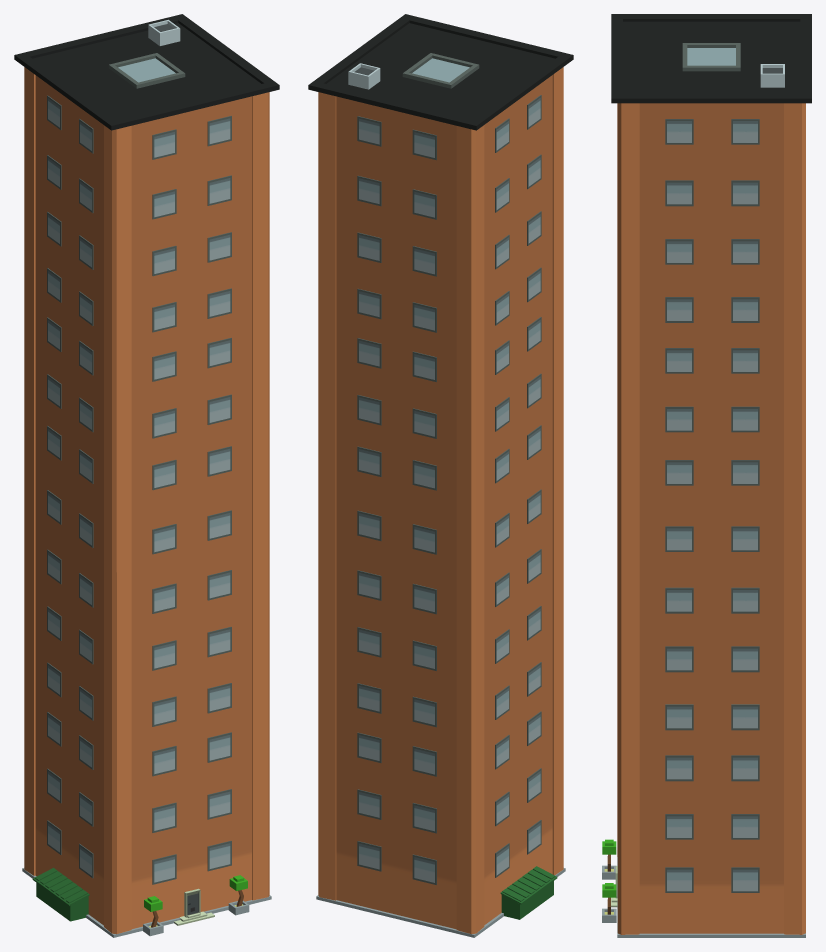
File: Basic Highest Doubled.fbx
The picture shows the model from 3 angles, left to right: view 1: azimuth 30°, elevation 25°; view 2: azimuth 150°, elevation 25°; view 3: azimuth 270°, elevation 25°; orthographic projection. The views are drawn at different scales.
Visible parts, largest first — view 1: Basic Highest Doubled; view 2: Basic Highest Doubled; view 3: Basic Highest Doubled.
Boxes of the visible parts, x1,y1,x2,y2 form: Basic Highest Doubled: (14,14,279,937); Basic Highest Doubled: (308,14,573,937); Basic Highest Doubled: (602,14,811,937).
Size of the model in its own units: 6.15 by 26.78 by 5.97.
